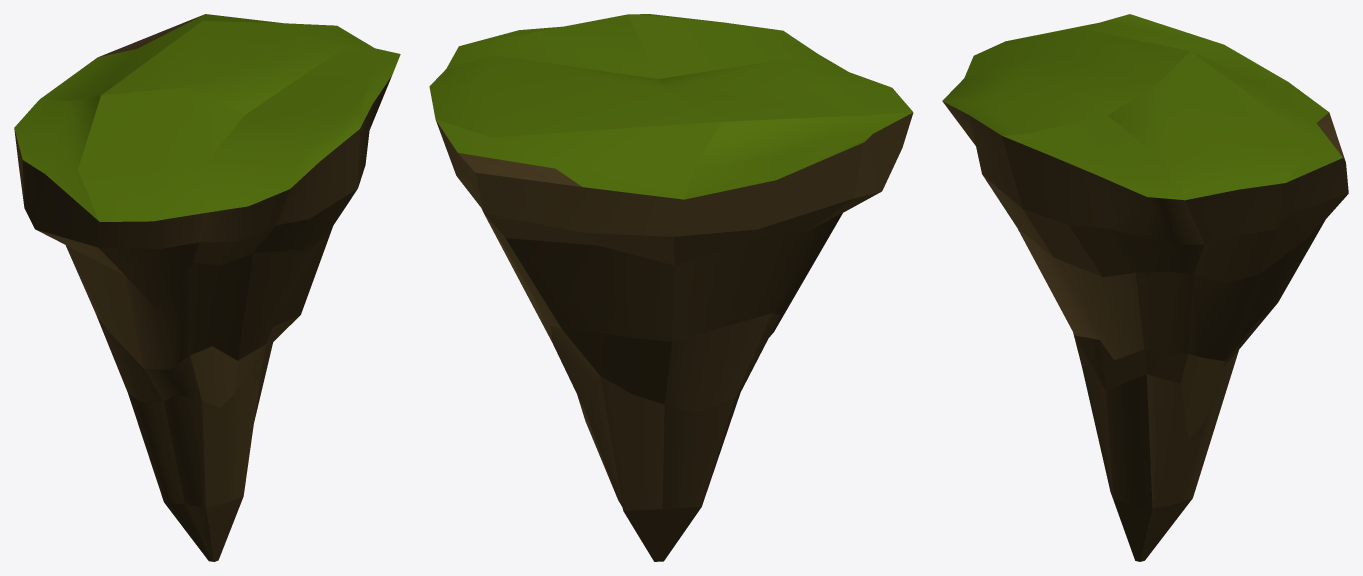
File: Floating_Platform_2.fbx
3 renders of one model, left to right at view 1: azimuth 30°, elevation 25°; view 2: azimuth 150°, elevation 25°; view 3: azimuth 270°, elevation 25°, orthographic. The views are drawn at different scales.
Parts seen in each view (by area): view 1: pCube5; view 2: pCube5; view 3: pCube5.
Part boxes in pixels (bbox=[...]): pCube5: bbox=[14, 14, 400, 561]; pCube5: bbox=[429, 14, 913, 561]; pCube5: bbox=[942, 14, 1348, 561].
Size of the model in its own units: 17.31 by 19.97 by 15.7.
